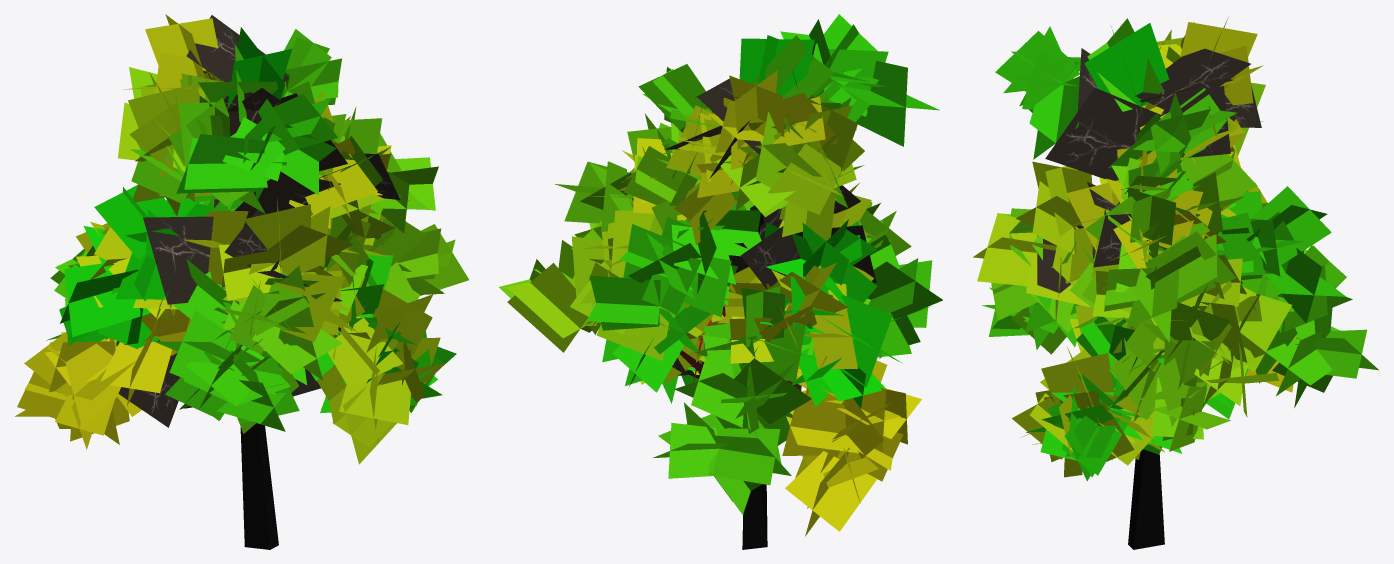
The model's file is linden2 lod1.FBX.
3 renders of one model, left to right at view 1: azimuth 30°, elevation 25°; view 2: azimuth 150°, elevation 25°; view 3: azimuth 270°, elevation 25°, orthographic.
Visible parts, largest first — view 1: linden2_LOD1; view 2: linden2_LOD1; view 3: linden2_LOD1.
Part boxes in pixels (box(x1,y1,x2,y2)): linden2_LOD1: box(15, 14, 468, 549); linden2_LOD1: box(499, 14, 942, 549); linden2_LOD1: box(973, 17, 1378, 549).
Bounding box in the file's own units: 120899 × 146125 × 105049.
